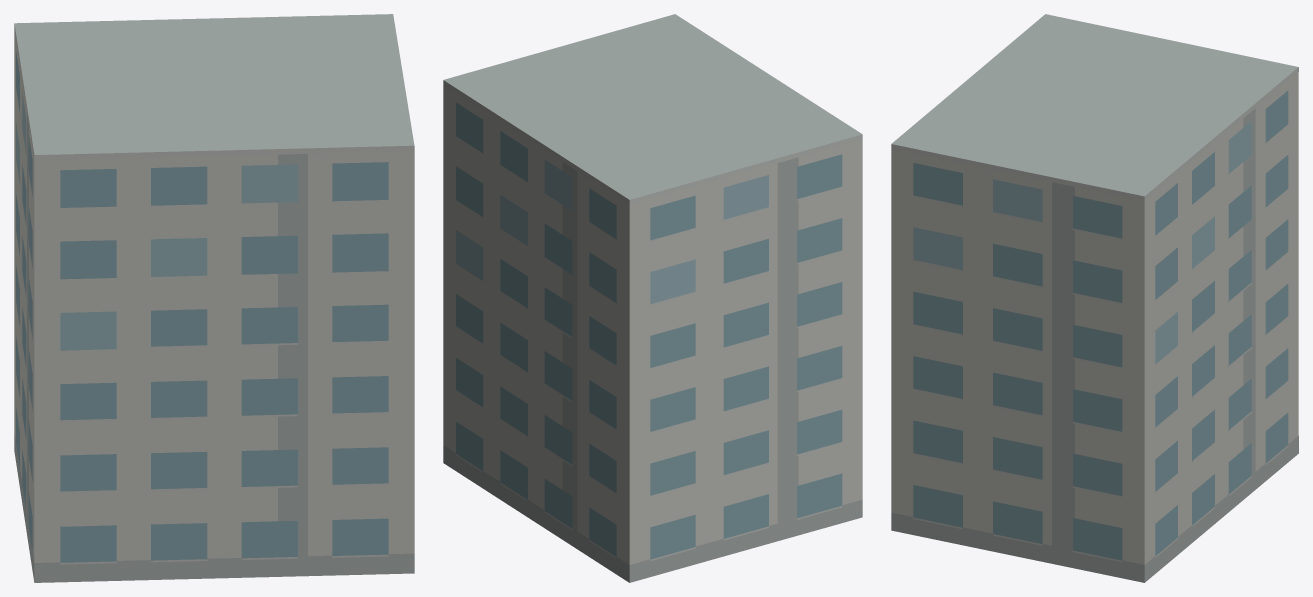
File: survey-upis-32845384.glb
3 renders of one model, left to right at view 1: azimuth 30°, elevation 25°; view 2: azimuth 150°, elevation 25°; view 3: azimuth 270°, elevation 25°, orthographic. The views are drawn at different scales.
Visible parts, largest first — view 1: survey-upis-32845384.tmp; view 2: survey-upis-32845384.tmp; view 3: survey-upis-32845384.tmp.
Part boxes in pixels (box(x1,y1,x2,y2)): survey-upis-32845384.tmp: box(14, 14, 414, 582); survey-upis-32845384.tmp: box(443, 14, 862, 582); survey-upis-32845384.tmp: box(891, 14, 1298, 582).
Size of the model in its own units: 19.13 by 18.9 by 18.07.
